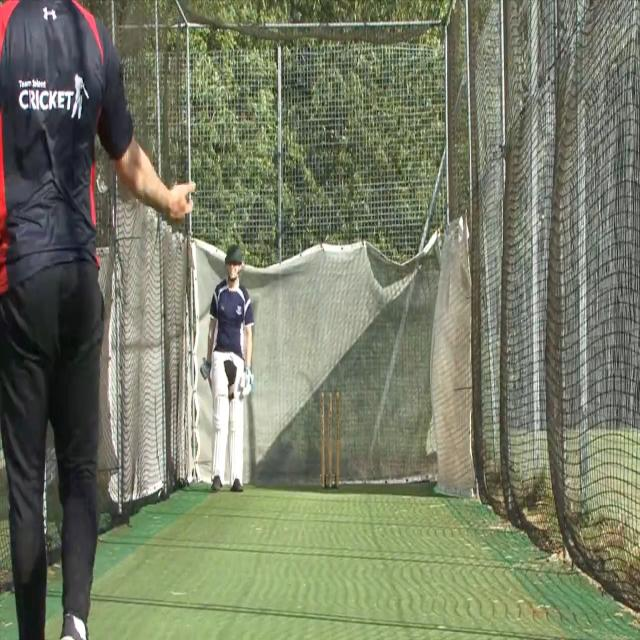batsman: (199, 242, 255, 494)
